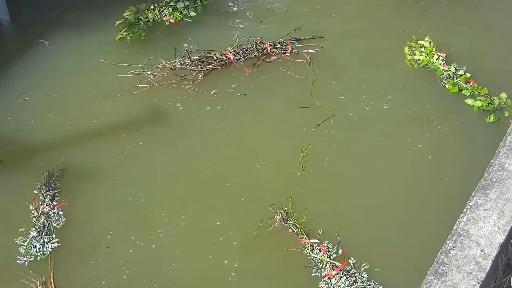twig: (273, 138, 399, 288), (123, 38, 330, 104), (406, 36, 512, 132), (13, 150, 74, 261), (107, 0, 222, 52), (9, 258, 61, 288)
